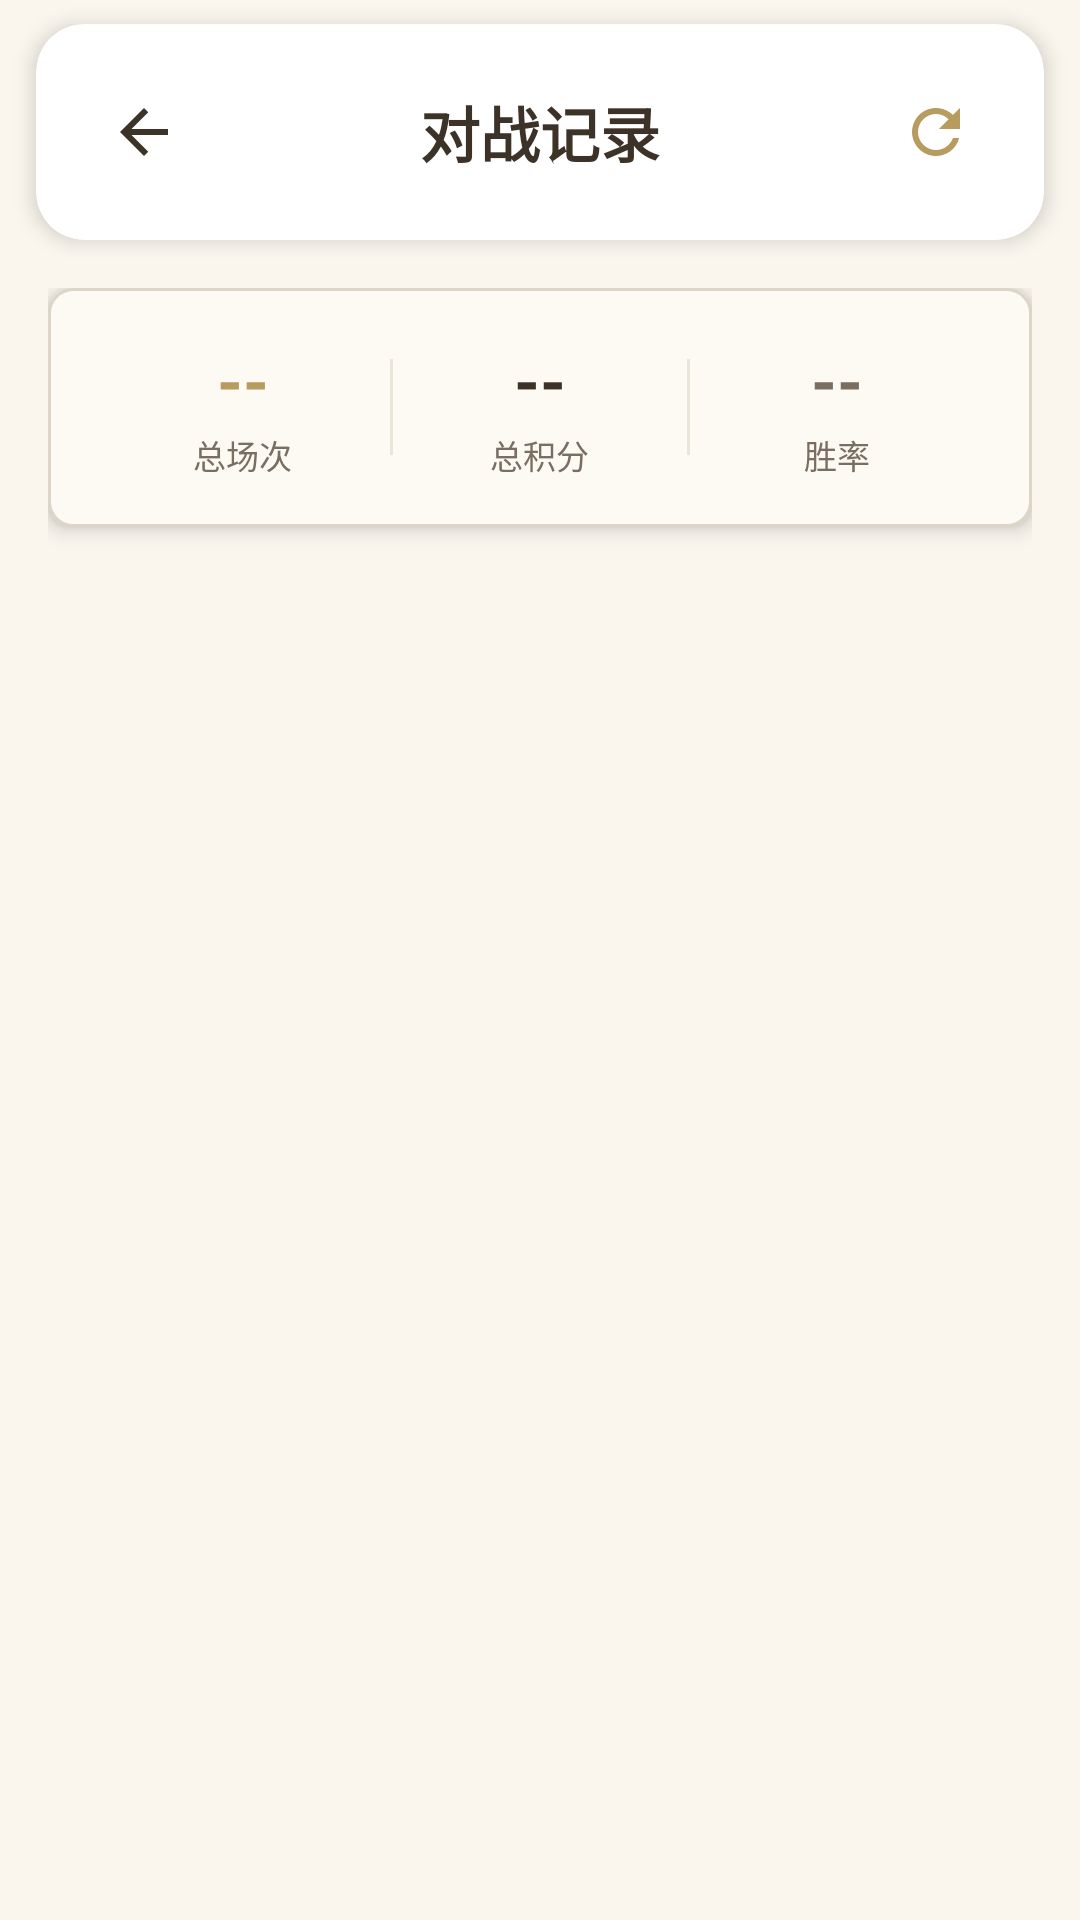

Where icons sit on this 1080×1920 app screen, as BBox(x1, y1, x2, y2):
刷新: BBox(912, 108, 960, 156)
返回: BBox(120, 108, 168, 156)
